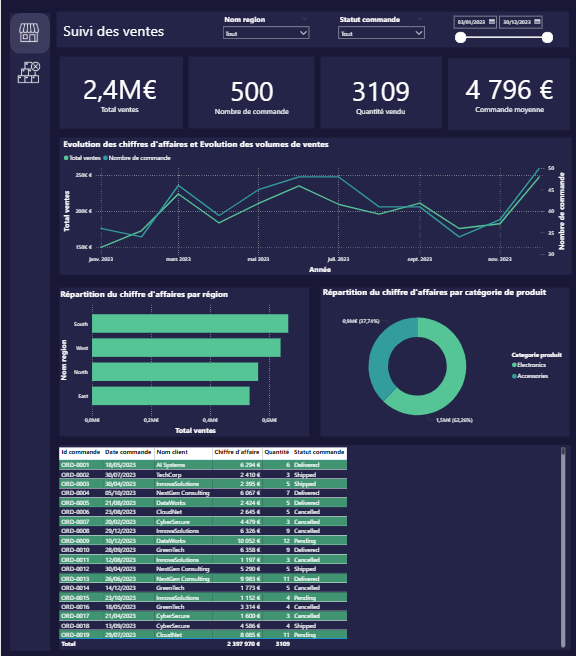

The dashboard page shown, as its layout file describes it:
{"tool":"powerbi","page":{"name":"Suivi vente","canvas":[1280,2000],"ordinal":0},"visuals":[{"type":"shape","box":[19,58.6,89.7,1417.2],"z":0},{"type":"shape","box":[123.6,57.9,1138.7,79.8],"z":1000},{"type":"shape","box":[129.3,156.9,274.1,160.3],"z":2000},{"type":"shape","box":[417.4,157.8,280,160],"z":3000},{"type":"shape","box":[711.4,157.8,270,160],"z":4000},{"type":"shape","box":[993.1,158.6,270.7,160.3],"z":5000},{"type":"shape","box":[129.3,337.9,1137.9,305.2],"z":6000},{"type":"shape","box":[129.3,669,555.2,331],"z":7000},{"type":"shape","box":[708.6,669,553.4,331],"z":8000},{"type":"shape","box":[131,1020.7,1136.2,455.2],"z":9000},{"type":"textbox","box":[132.8,70.7,267.2,53.4],"z":10000},{"type":"card","fields":{"Values":["clients.Total ventes"]},"box":[128,156,274,158],"z":11000},{"type":"card","fields":{"Values":["Mésures.Nombre de commande"]},"box":[420,160,274,158],"z":12000},{"type":"card","fields":{"Values":["ventes.Quantité vendu"]},"box":[708,160,274,158],"z":13000},{"type":"card","fields":{"Values":["ventes.Commande moyenne"]},"box":[992,158,274,158],"z":14000},{"type":"lineChart","title":"Evolution des chiffres d''affaires et Evolution des volumes de ventes","fields":{"Category":["ventes.Date commande.Variation.Hiérarchie de dates.Année","ventes.Date commande.Variation.Hiérarchie de dates.Trimestre","ventes.Date commande.Variation.Hiérarchie de dates.Mois","ventes.Date commande.Variation.Hiérarchie de dates.Jour"],"Y":["Mésures.Total ventes"],"Y2":["Mésures.Nombre de commande"]},"box":[131.9,336.6,1129.8,307],"z":15000},{"type":"barChart","title":"Répartition du chiffre d''affaires par région","fields":{"Y":["Mésures.Total ventes"],"Category":["regions.Nom region"]},"box":[128.3,669.5,556.8,331.6],"z":16000},{"type":"donutChart","title":"Répartition du chiffre d''affaires par catégorie de produit","fields":{"Category":["produits.Categorie produit"],"Y":["Mésures.Total ventes"]},"box":[708.6,667.9,556.8,331.6],"z":17000},{"type":"tableEx","fields":{"Values":["ventes.Id commande","ventes.Date commande","clients.Nom client","Sum(ventes.Prix total)","Sum(ventes.Quantité)","ventes.Statut commande"]},"box":[123.6,1019.8,1135.6,455.2],"z":18000},{"type":"slicer","fields":{"Values":["regions.Nom region"]},"box":[481.8,57.9,211.2,79.8],"z":19000},{"type":"slicer","fields":{"Values":["ventes.Statut commande"]},"box":[741.4,57.9,211.2,79.8],"z":20000},{"type":"slicer","fields":{"Values":["ventes.Date commande"]},"box":[993.2,57.9,242.4,79.8],"z":21000}]}

Visuals, with their boxes on the page's 1280x2000 design canvas (x1, y1, x2, y2). These are canvas units, not pixel positions in the 576x656 screenshot, which may show the page scaled, cropped or inside an application window:
shape: 19, 59, 109, 1476
shape: 124, 58, 1262, 138
shape: 129, 157, 403, 317
shape: 417, 158, 697, 318
shape: 711, 158, 981, 318
shape: 993, 159, 1264, 319
shape: 129, 338, 1267, 643
shape: 129, 669, 684, 1000
shape: 709, 669, 1262, 1000
shape: 131, 1021, 1267, 1476
textbox: 133, 71, 400, 124
card - clients.Total ventes: 128, 156, 402, 314
card - Mésures.Nombre de commande: 420, 160, 694, 318
card - ventes.Quantité vendu: 708, 160, 982, 318
card - ventes.Commande moyenne: 992, 158, 1266, 316
"Evolution des chiffres d''affaires et Evolution des volumes de ventes" lineChart: 132, 337, 1262, 644
"Répartition du chiffre d''affaires par région" barChart: 128, 670, 685, 1001
"Répartition du chiffre d''affaires par catégorie de produit" donutChart: 709, 668, 1265, 1000
tableEx - ventes.Id commande x ventes.Date commande: 124, 1020, 1259, 1475
slicer - regions.Nom region: 482, 58, 693, 138
slicer - ventes.Statut commande: 741, 58, 953, 138
slicer - ventes.Date commande: 993, 58, 1236, 138
